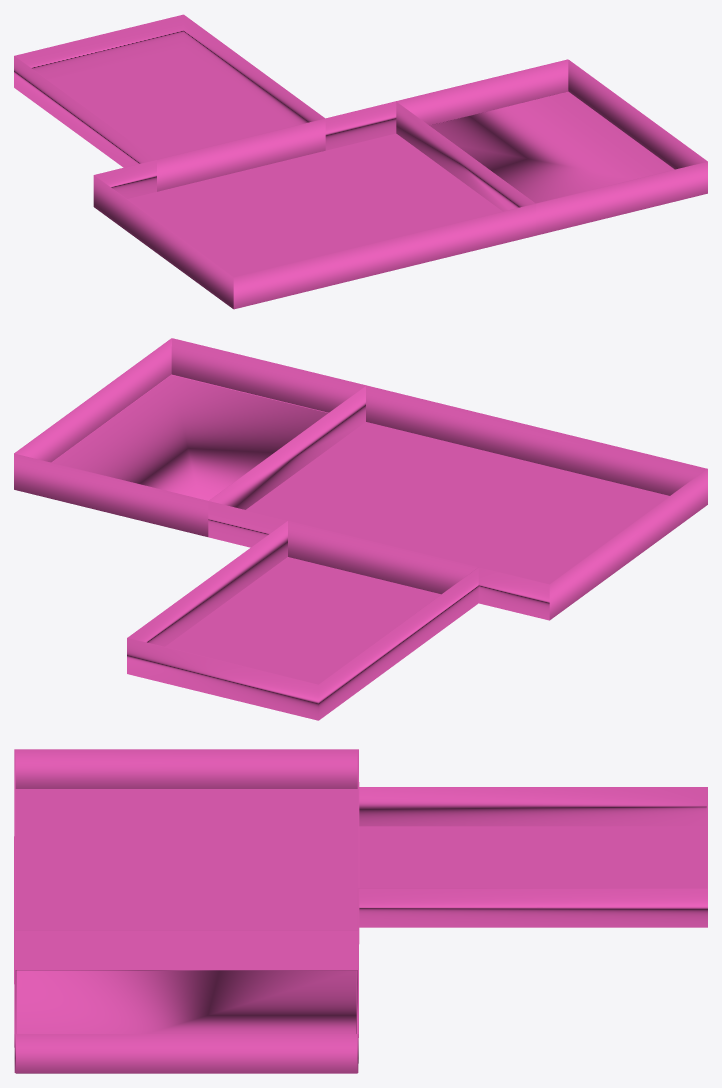
Rendered from room.glb.
The picture shows the model from 3 angles, top to bottom: view 1: azimuth 30°, elevation 25°; view 2: azimuth 150°, elevation 25°; view 3: azimuth 270°, elevation 25°; orthographic projection. The views are drawn at different scales.
Parts seen in each view (by area): view 1: playerRoom, playerRoom.001, playerRoom.002; view 2: playerRoom, playerRoom.001, playerRoom.002; view 3: playerRoom, playerRoom.001, playerRoom.002.
Part boxes in pixels (bbox=[...]): playerRoom: bbox=[14, 14, 707, 309]; playerRoom.001: bbox=[127, 133, 502, 276]; playerRoom.002: bbox=[48, 47, 291, 159]; playerRoom: bbox=[14, 338, 707, 720]; playerRoom.001: bbox=[246, 422, 669, 583]; playerRoom.002: bbox=[165, 557, 440, 684]; playerRoom: bbox=[14, 749, 707, 1073]; playerRoom.001: bbox=[15, 789, 357, 930]; playerRoom.002: bbox=[359, 826, 706, 888].
Size of the model in its own units: 71.74 by 4.62 by 73.89.
